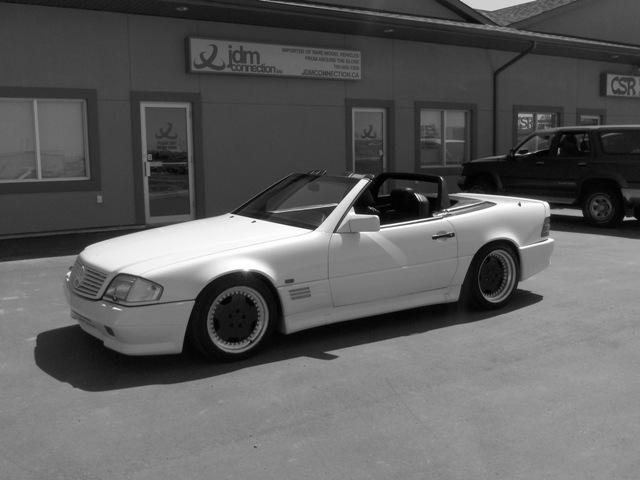car: (63, 163, 558, 367)
